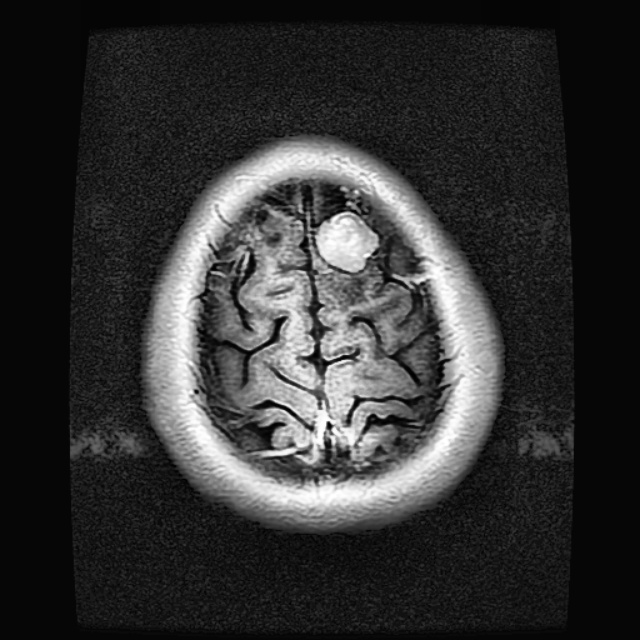Pituitary: (317, 209, 379, 270)
